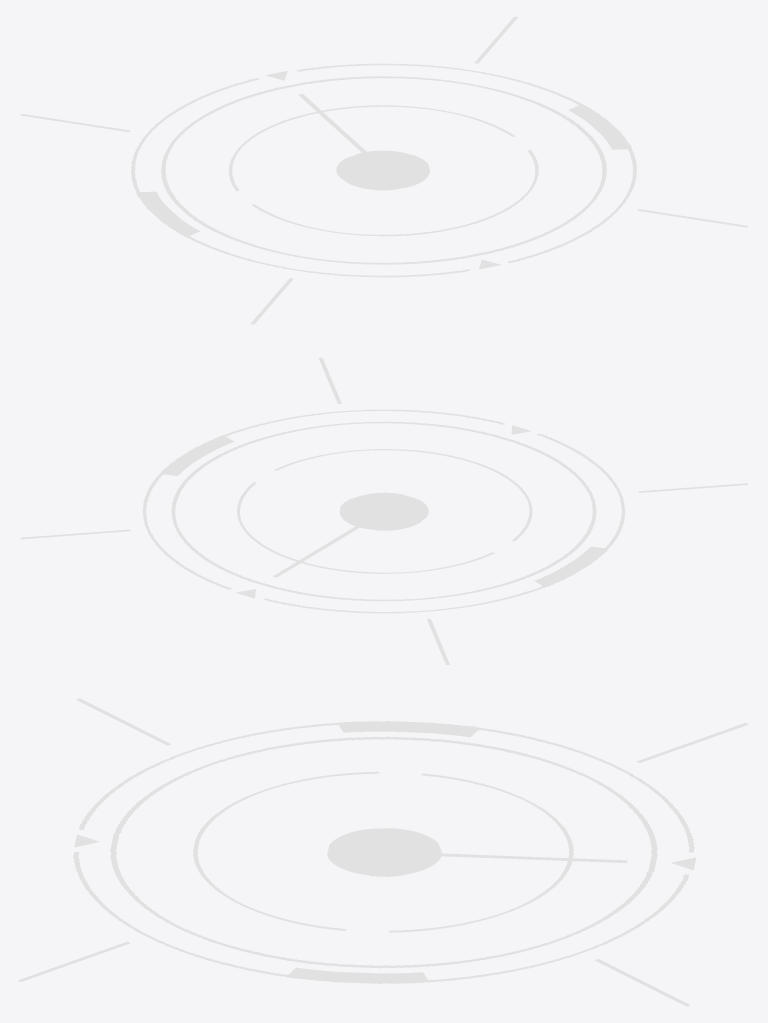
The model's file is F_circleline.fbx.
The picture shows the model from 3 angles, top to bottom: view 1: azimuth 30°, elevation 25°; view 2: azimuth 150°, elevation 25°; view 3: azimuth 270°, elevation 25°; orthographic projection. The views are drawn at different scales.
Visible parts, largest first — view 1: Plane002; view 2: Plane002; view 3: Plane002.
Boxes of the visible parts, left/top/right/bottom form: Plane002: left=20, top=16, right=747, bottom=324; Plane002: left=20, top=357, right=747, bottom=665; Plane002: left=18, top=698, right=748, bottom=1006.
Bounding box in the file's own units: 67.72 × 0 × 67.72.
Materials: 1 (1 with a texture image).
